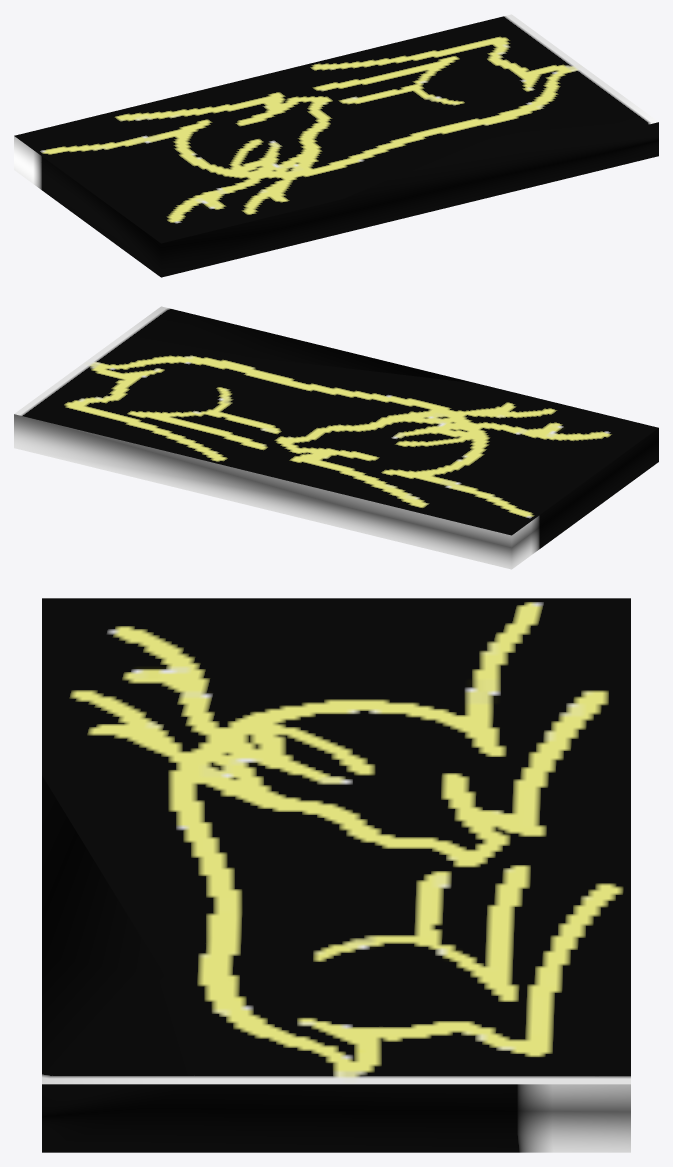
File: CharSkyKid_Prop_MoonlightMural_Deer03.glb
3 renders of one model, top to bottom at view 1: azimuth 30°, elevation 25°; view 2: azimuth 150°, elevation 25°; view 3: azimuth 270°, elevation 25°, orthographic. The views are drawn at different scales.
Parts seen in each view (by area): view 1: CharSkyKid_Prop_MoonlightMural_Deer03; view 2: CharSkyKid_Prop_MoonlightMural_Deer03; view 3: CharSkyKid_Prop_MoonlightMural_Deer03.
Boxes of the visible parts, box(x1,y1,x2,y2) form: CharSkyKid_Prop_MoonlightMural_Deer03: box(14, 14, 658, 277); CharSkyKid_Prop_MoonlightMural_Deer03: box(14, 306, 658, 569); CharSkyKid_Prop_MoonlightMural_Deer03: box(42, 598, 630, 1152).
Bounding box in the file's own units: 1 × 0.0654 × 0.5121.
Materials: 1 (1 with a texture image).
